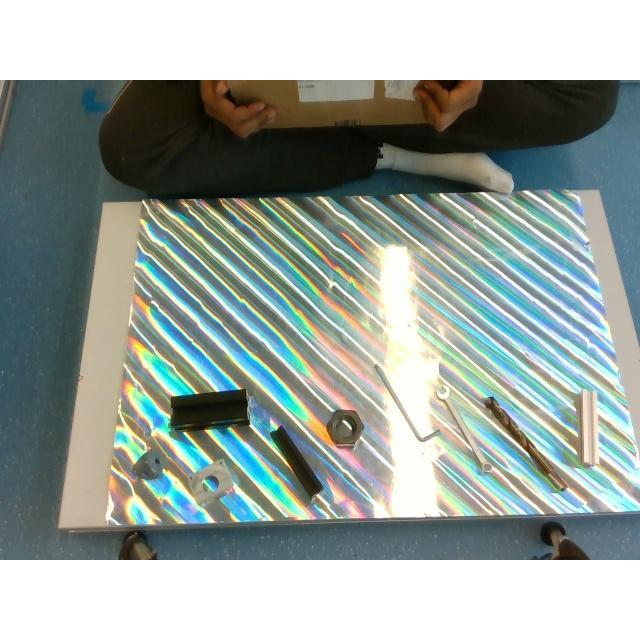Drill: (484, 396, 568, 492)
F20_20_B: (270, 426, 322, 502)
F20_20_G: (578, 389, 598, 466)
M30: (326, 410, 362, 446)
S40_40_B: (170, 388, 250, 430)
